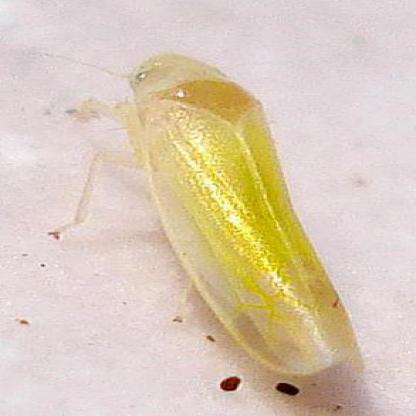green-leafhopper: (118, 49, 364, 374)
